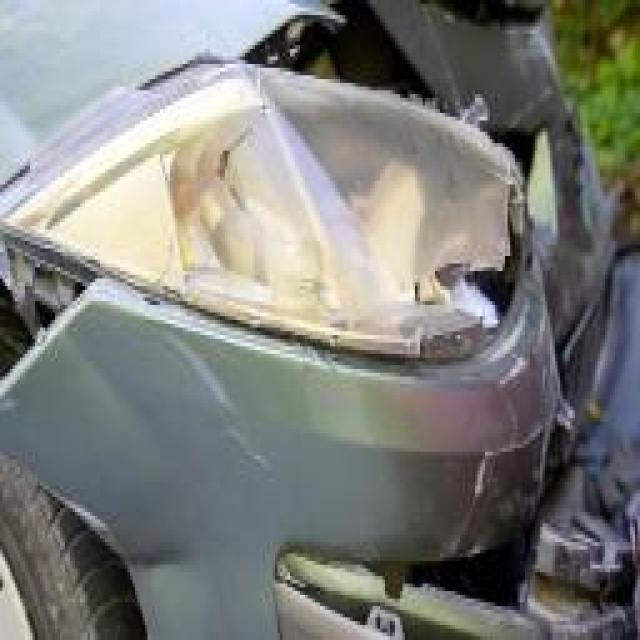Bonnet: (0, 0, 608, 198)
Bumper: (0, 126, 640, 640)
Light: (0, 60, 530, 358)
